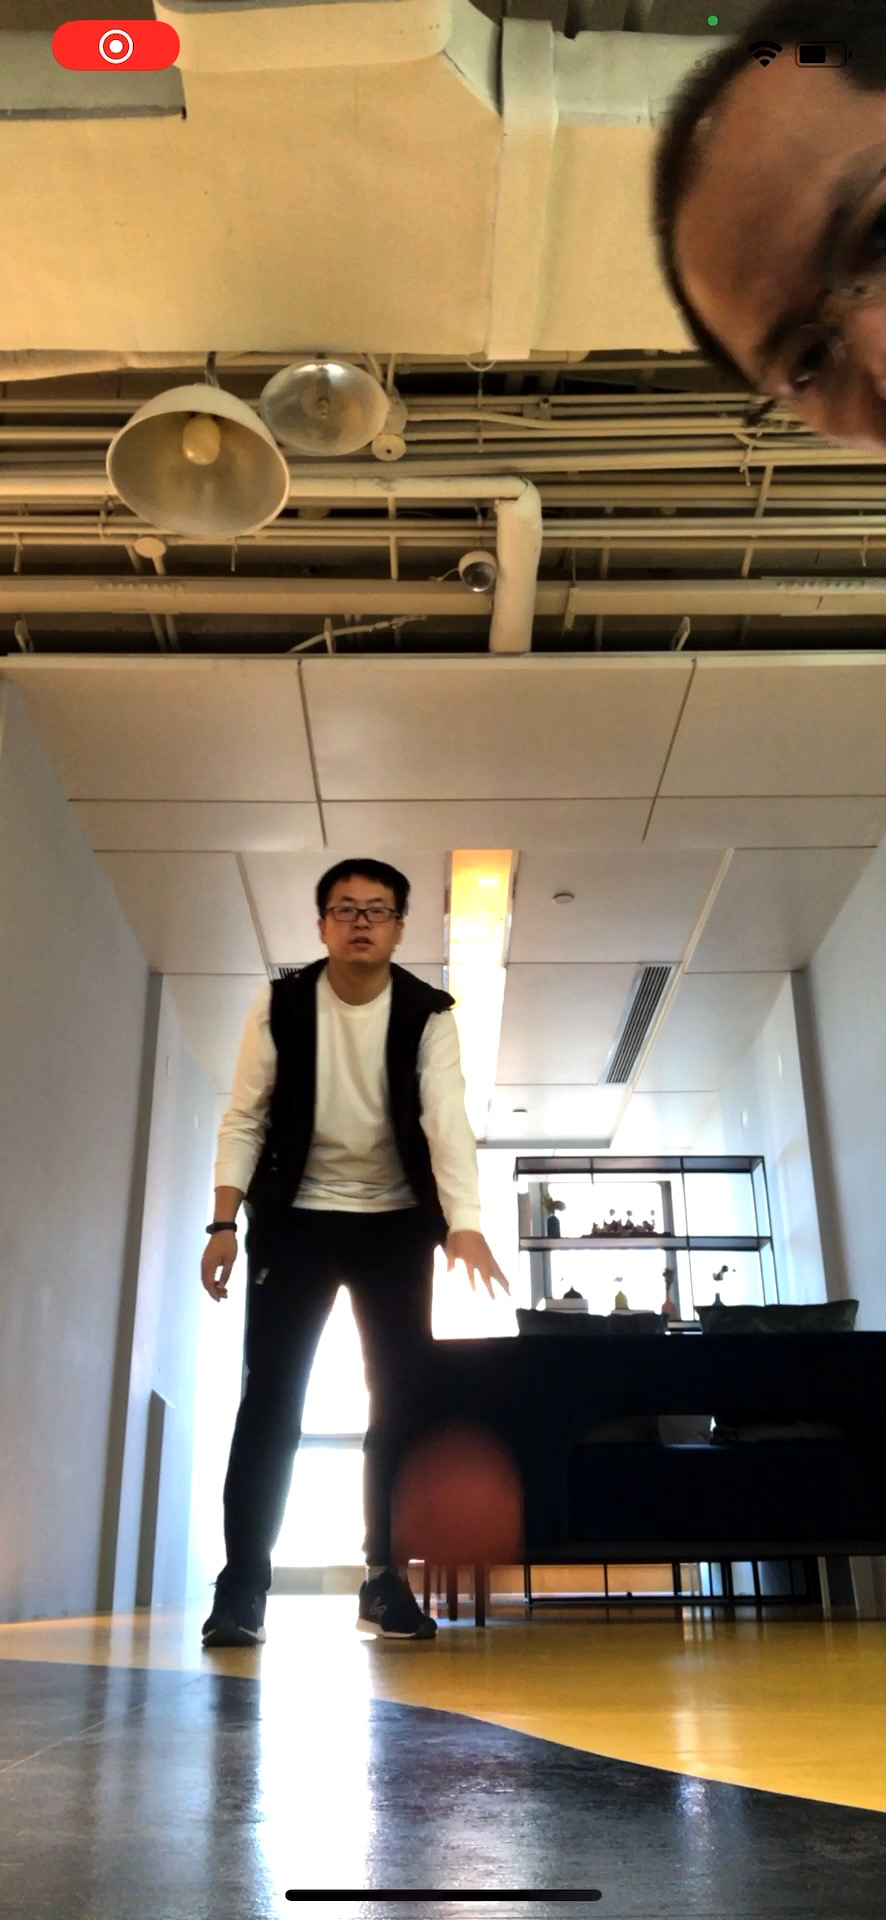ball: (394, 1453, 525, 1584)
